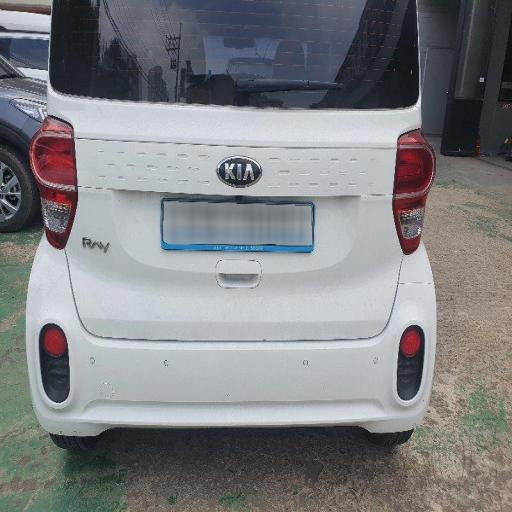scratch: (44, 90, 431, 405)
